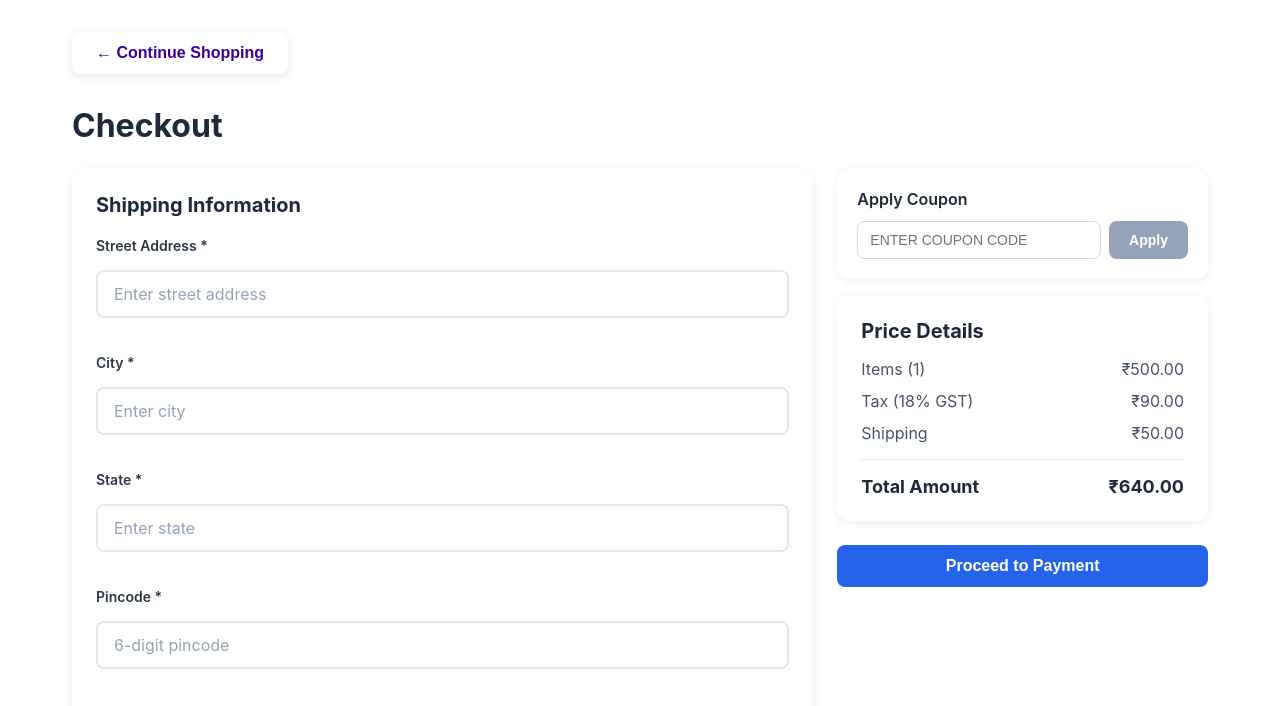
Test case: CheckoutPage › handles coupon application failures and errors
The width and height of the screenshot is (1280, 706).
Expected: the button "Apply" is disabled, [1109,221,1188,259]
Step 1. Type "badone" into the field with placeholder "Enter coupon code" → (979, 240), box [857,221,1101,259]
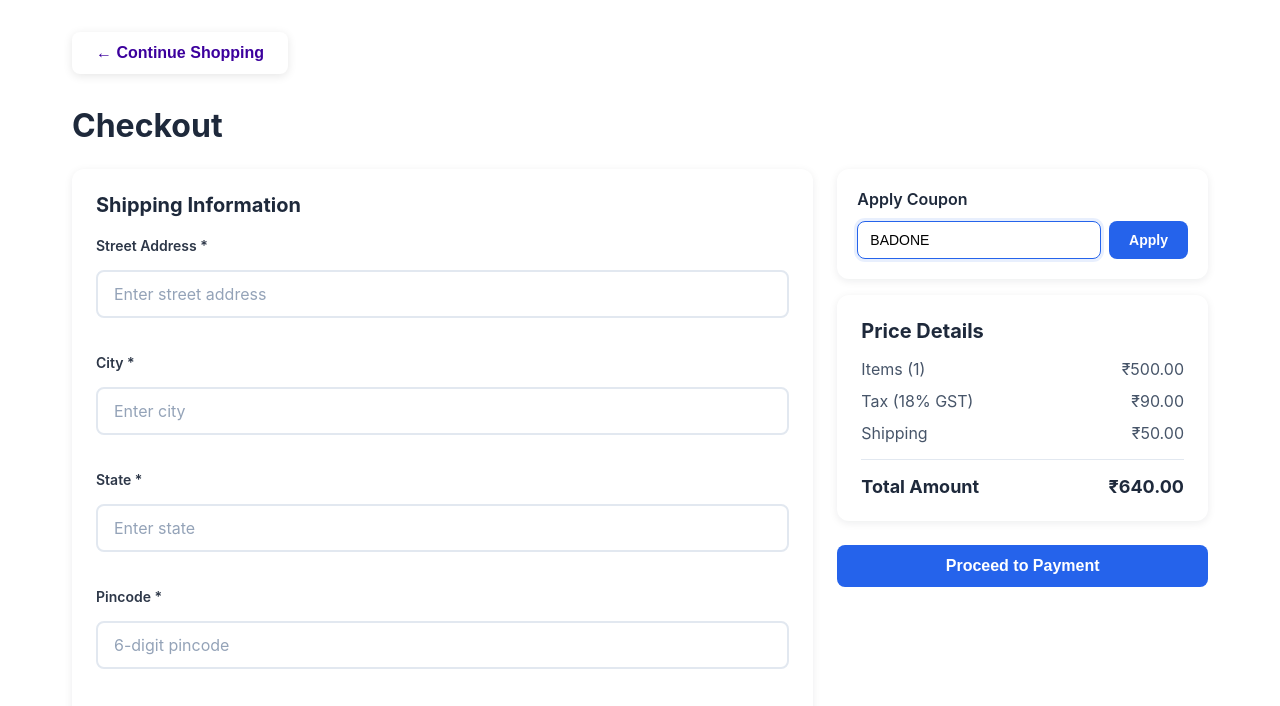
Step 2. Click the button "Apply" → (1149, 240), box [1109,221,1188,259]
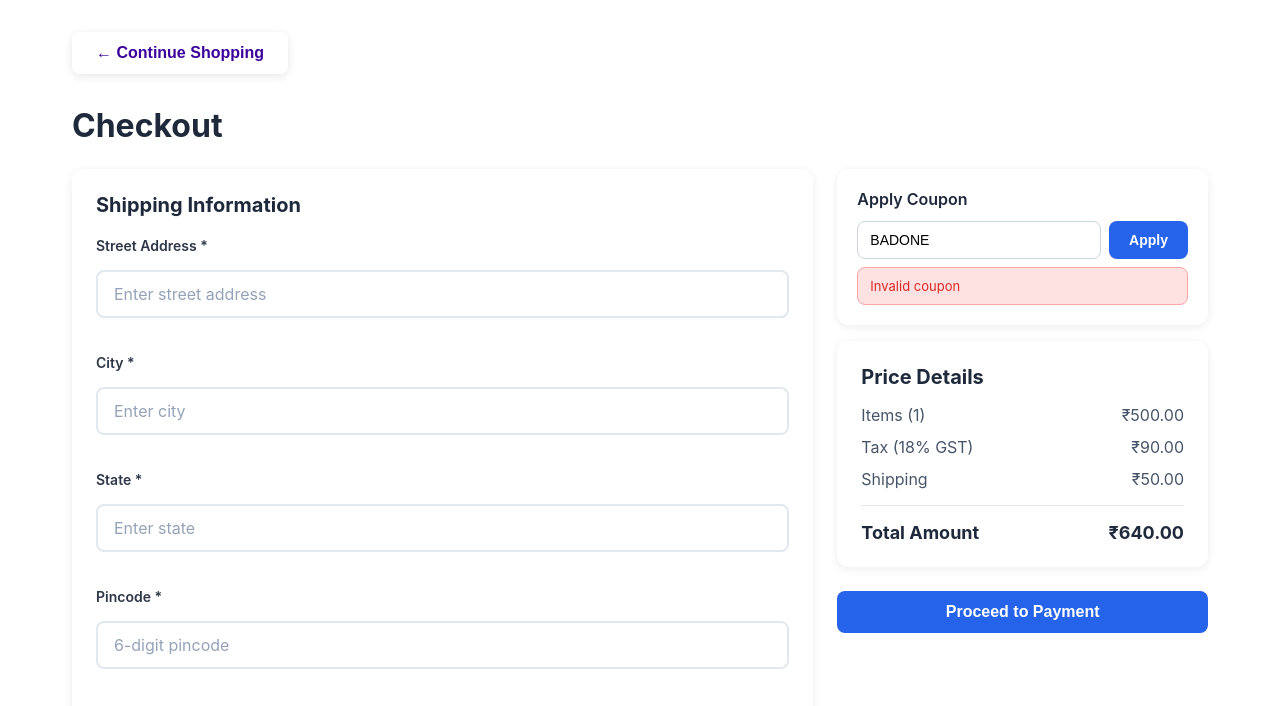
Expected: the text "Invalid coupon" is shown, [857,267,1188,305]
Step 3. Replace the text in the field with placeholder "Enter coupon code" with "error" → (979, 240), box [857,221,1101,259]
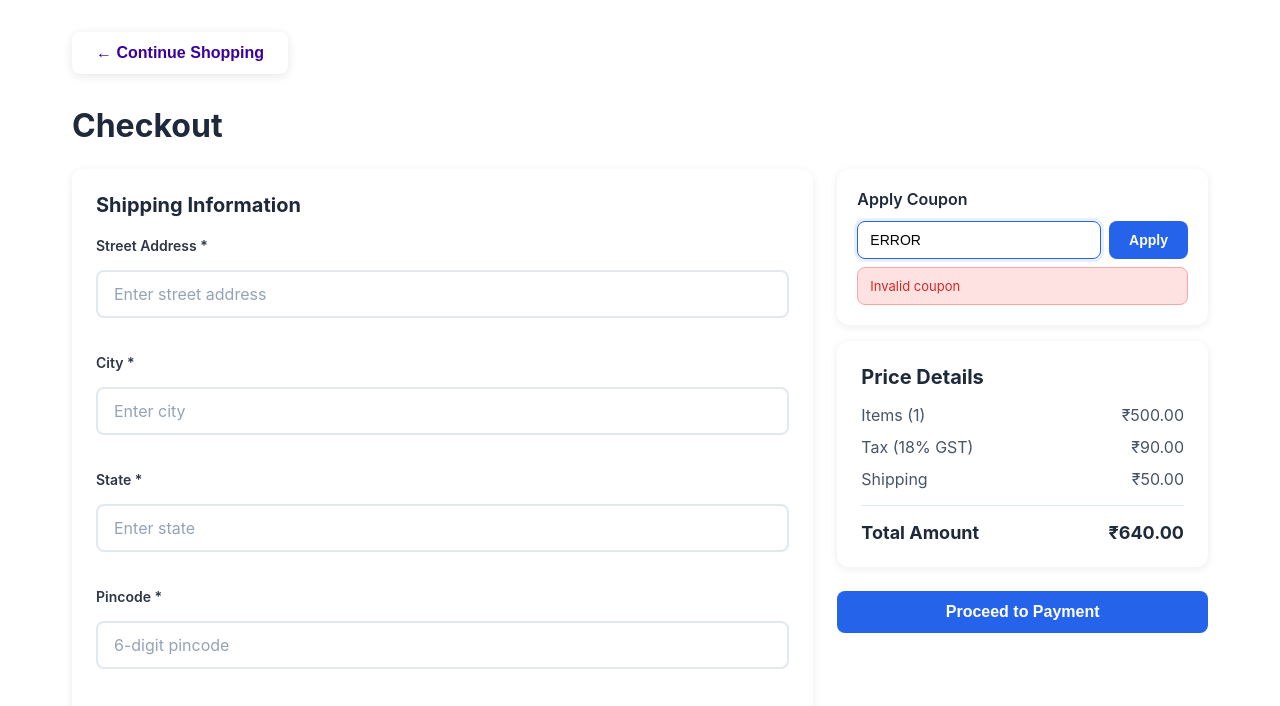
Step 4. Click the button "Apply" → (1149, 240), box [1109,221,1188,259]
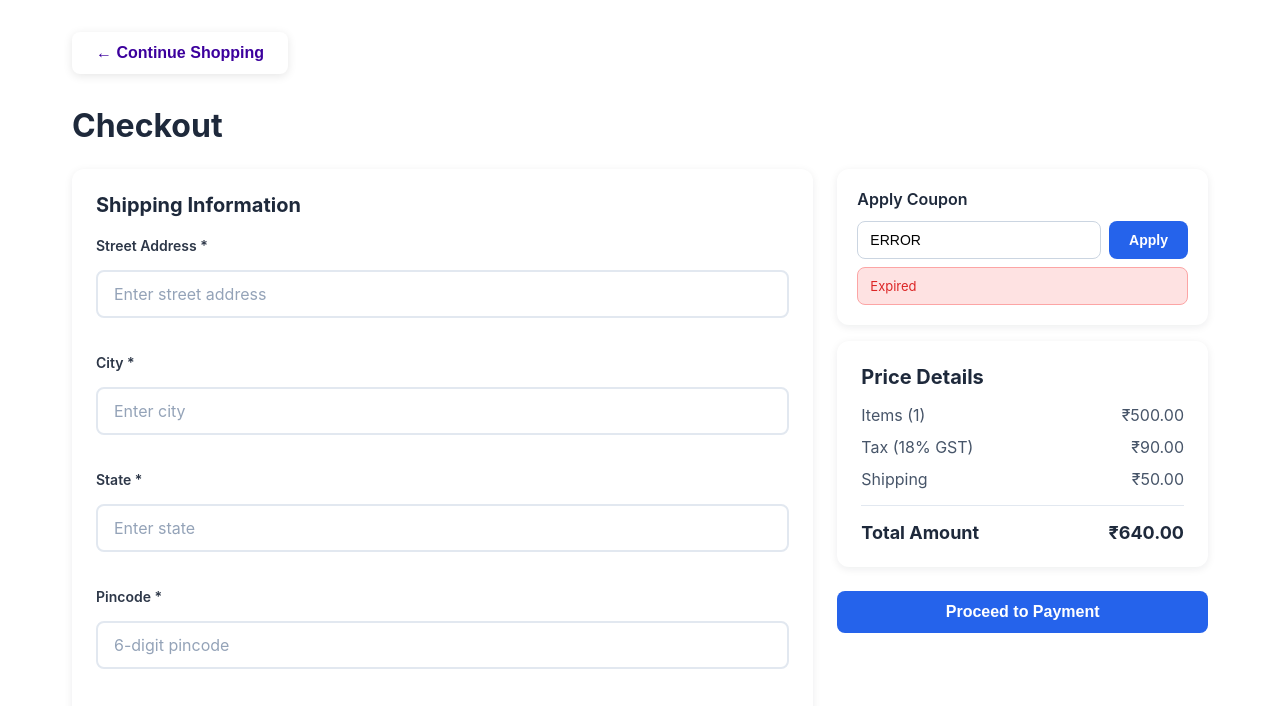
Expected: the text "Expired" is shown, [857,267,1188,305]
